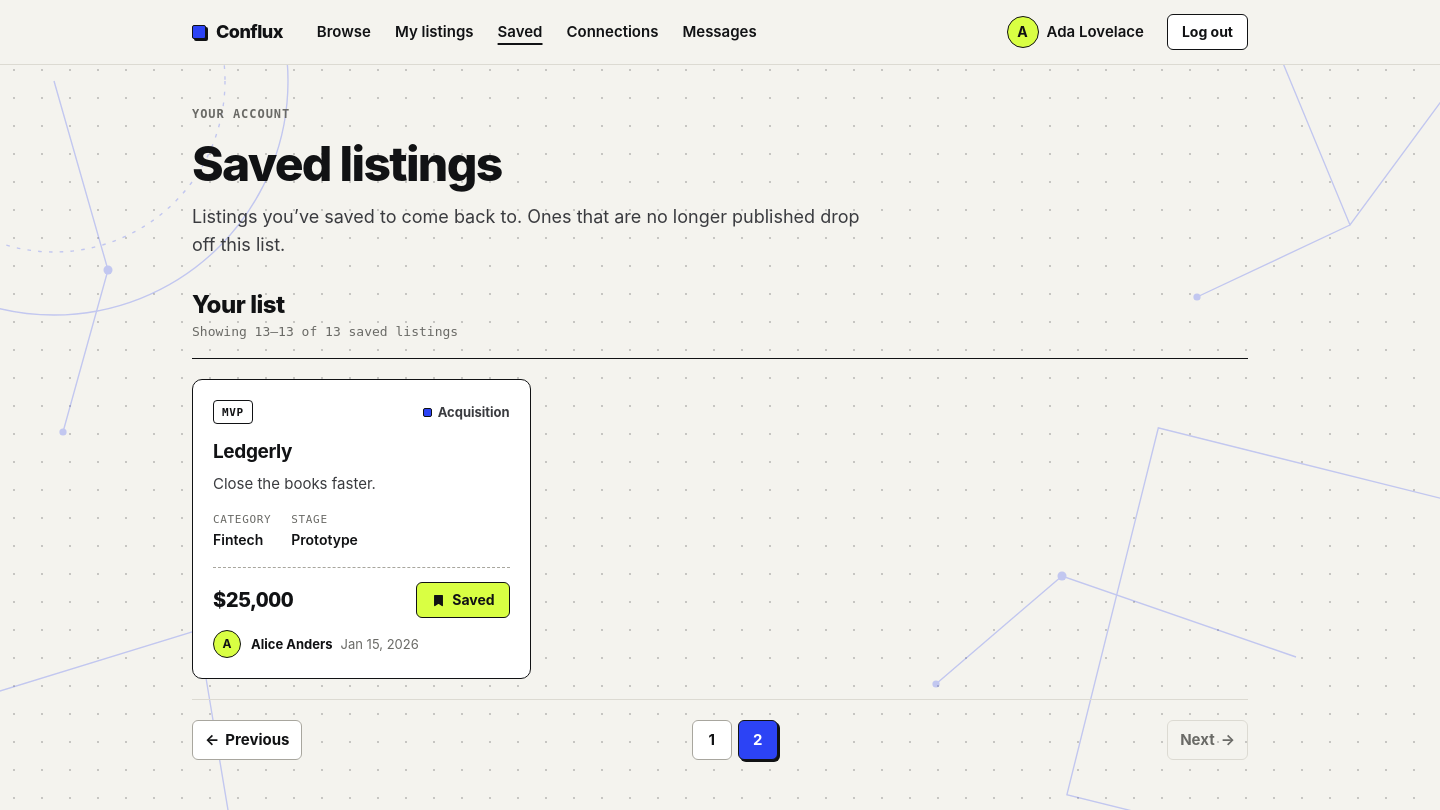
Saved listings page › links a card back to the saved listings from the listing page
The width and height of the screenshot is (1440, 810).
Click the link "Ledgerly" at [253, 452], box [213,440,292,463]
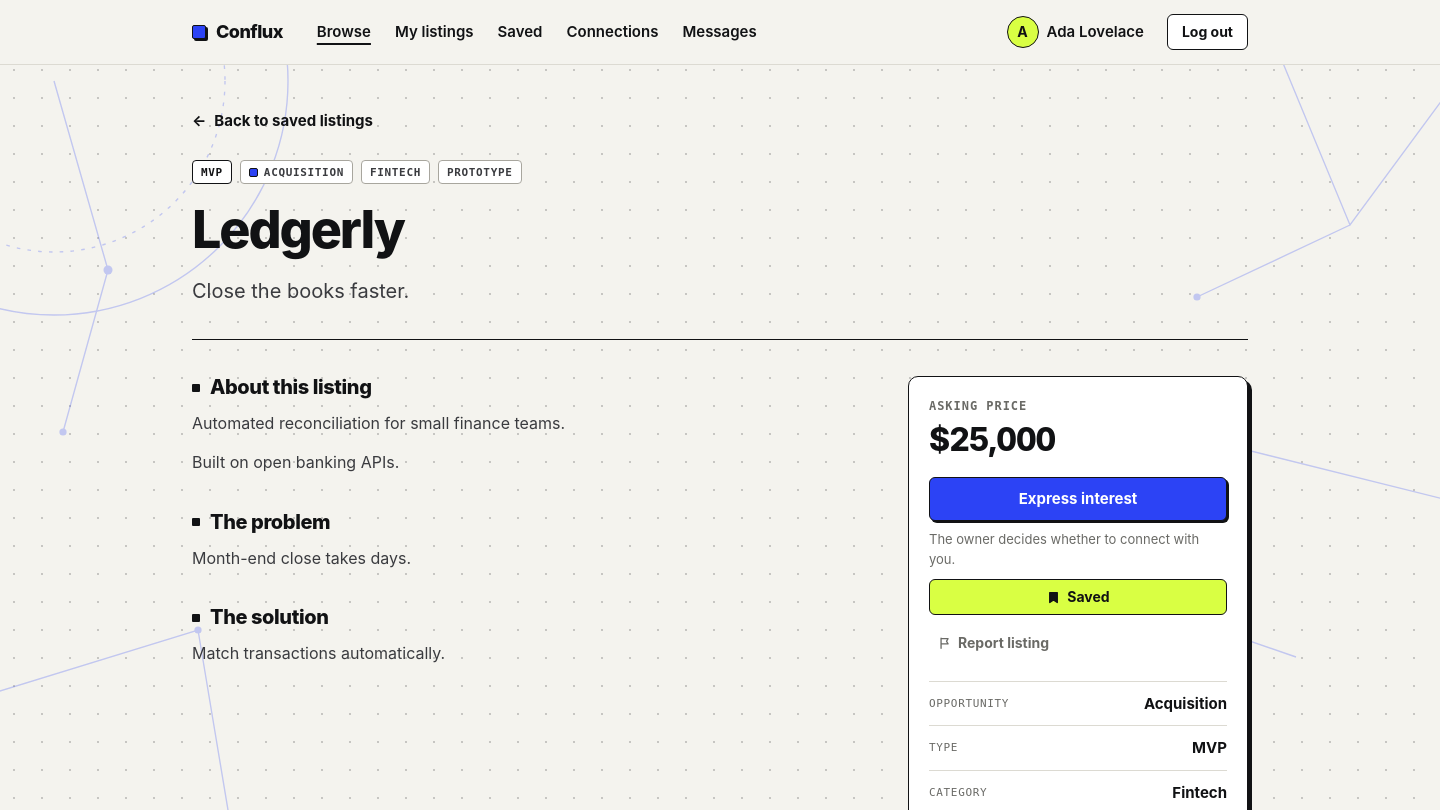
Expected: the heading "Ledgerly" is shown, [192,198,404,261]
Expected: the link "← Back to saved listings" is shown, [192,105,373,136]
